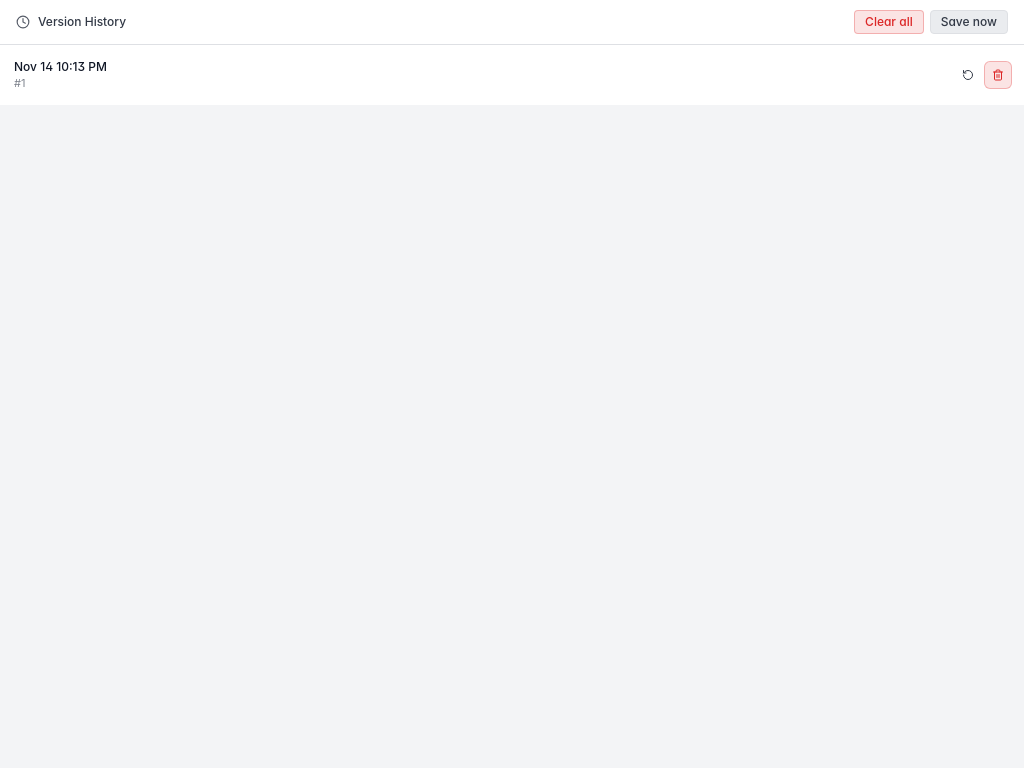
it: HistoryPanel — snapshots are bound to the note being viewed › does not preview another note's snapshot listed in this note's history
Click the option "Nov 14 10:13 PM #1" at (60, 66), box [14,59,1012,90]
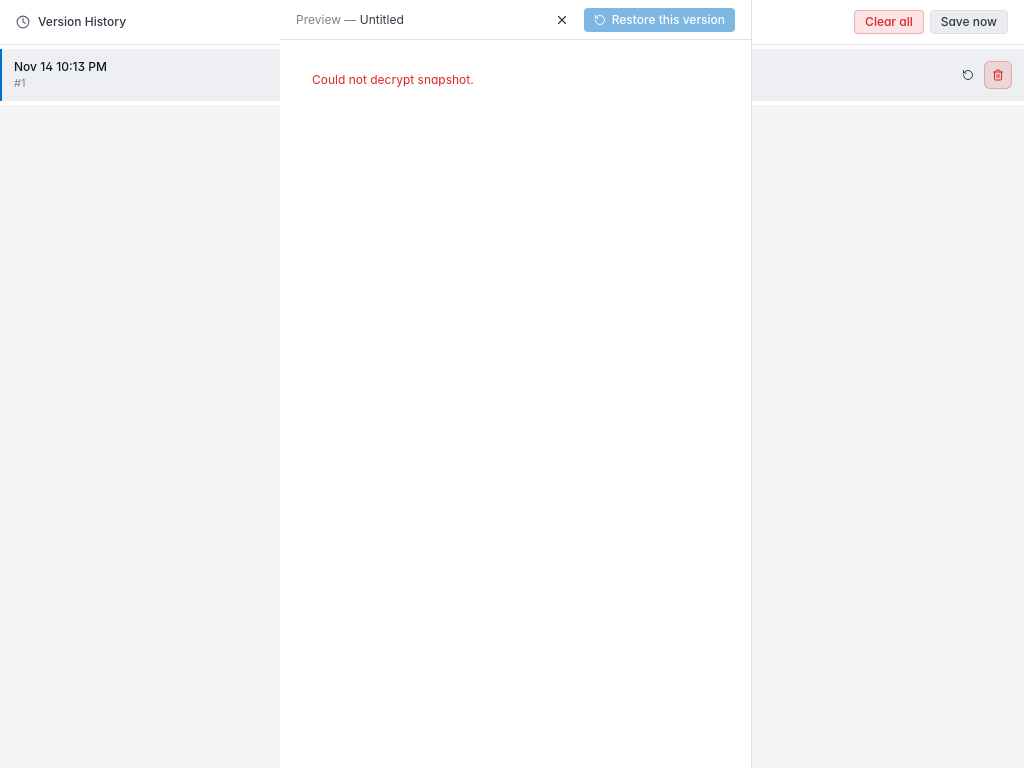
Expected: the text "Could not decrypt snapshot." is shown, [312,72,474,87]
